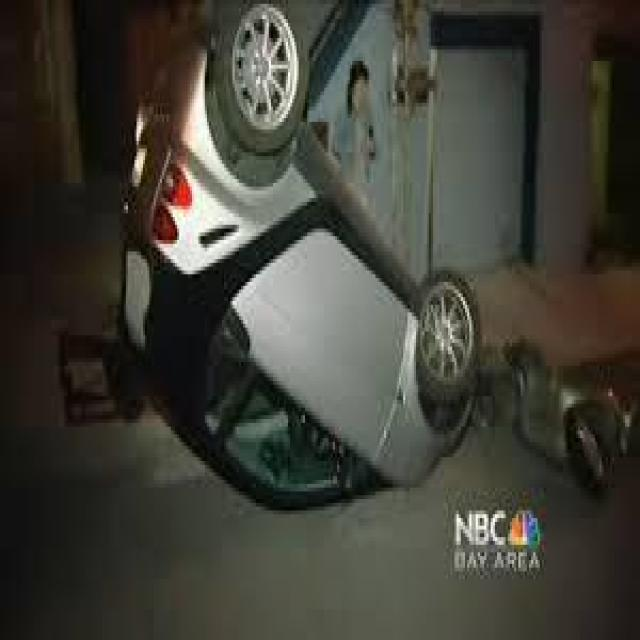severe: (117, 0, 486, 522)
